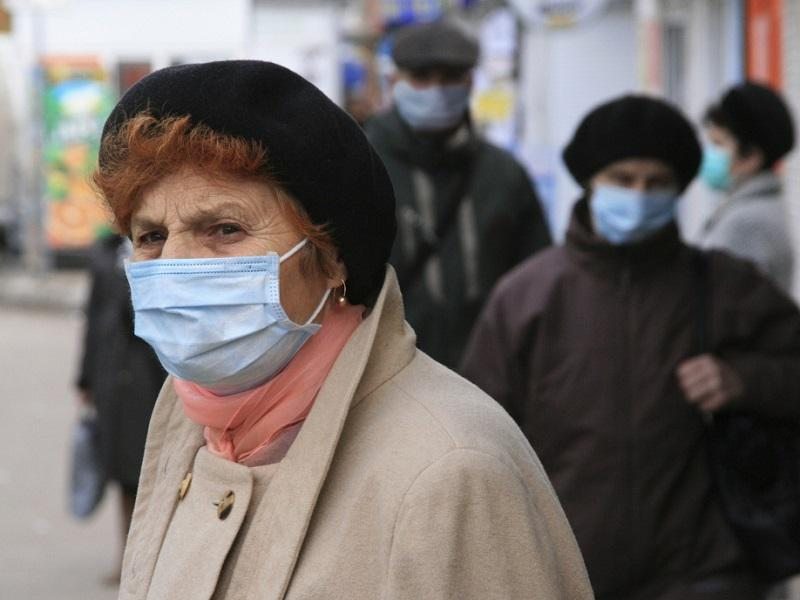mask: (128, 169, 317, 384), (391, 44, 476, 134), (590, 150, 674, 239), (699, 111, 756, 193)
